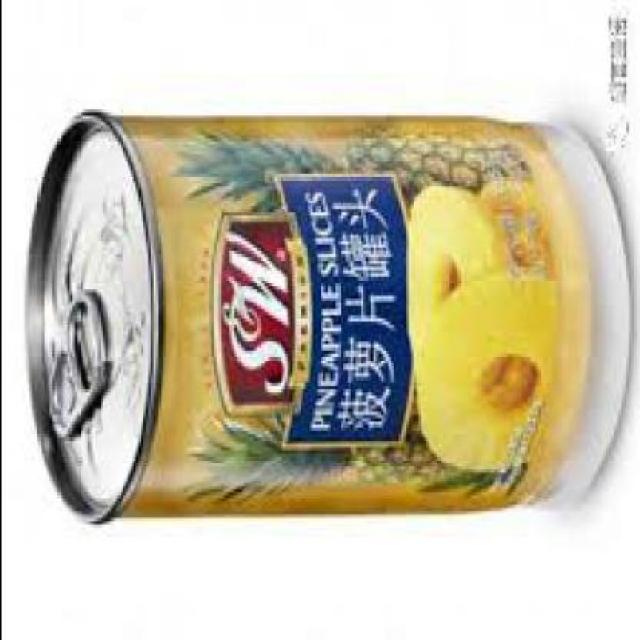METAL: (23, 112, 629, 528)
